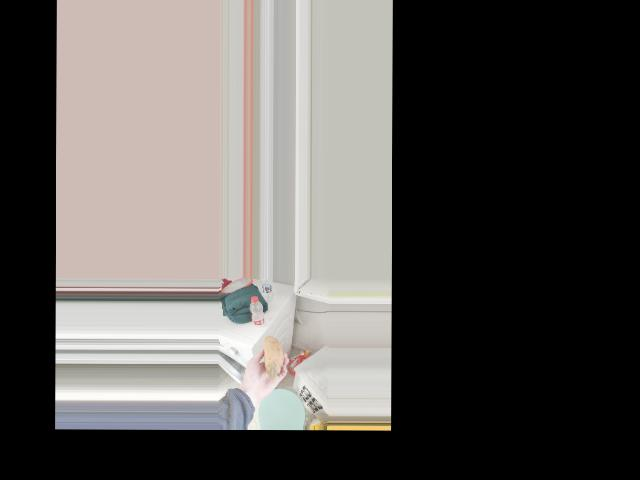sweet_potato: (263, 326, 281, 374)
